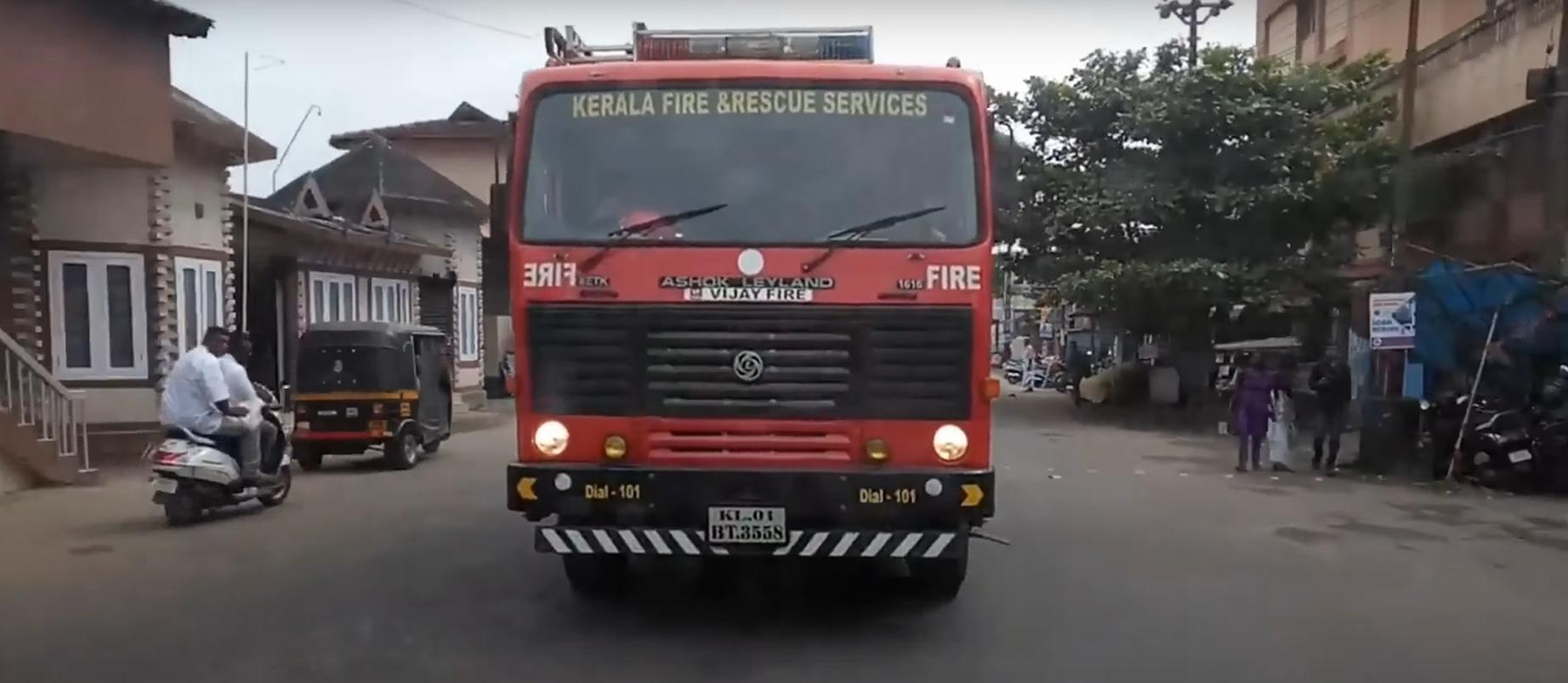Fire-engine: (503, 22, 1003, 611), (626, 26, 880, 62), (730, 79, 827, 121), (923, 253, 989, 303), (652, 79, 714, 128), (517, 258, 574, 296)
